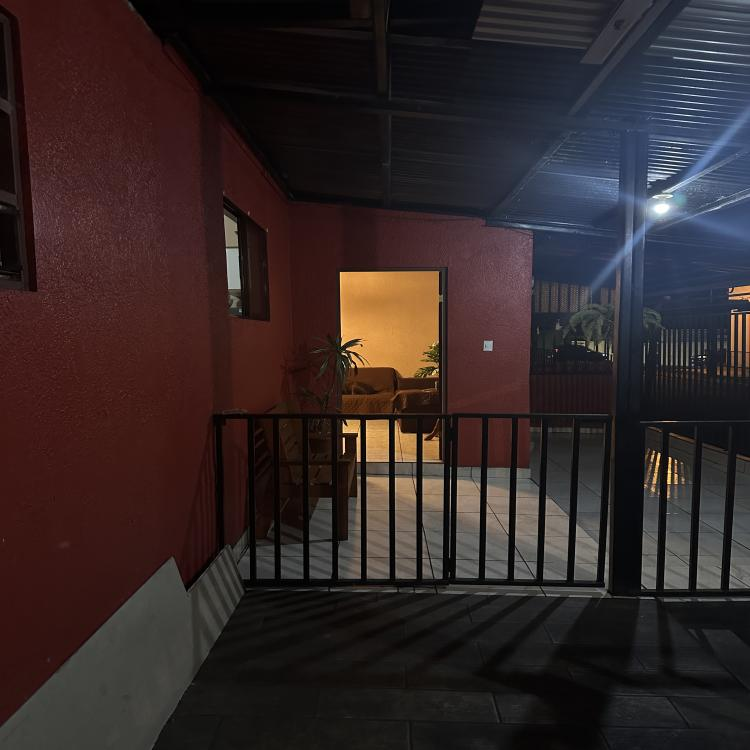OpenDoor: (337, 262, 444, 462)
